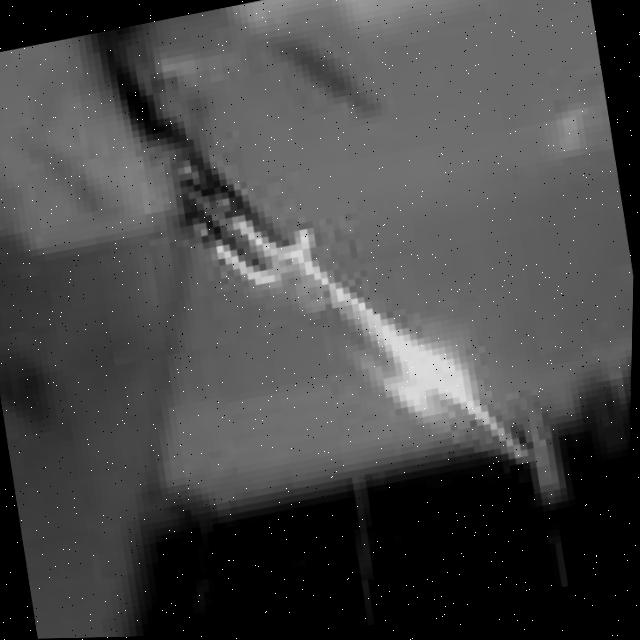knife: (172, 120, 568, 539)
